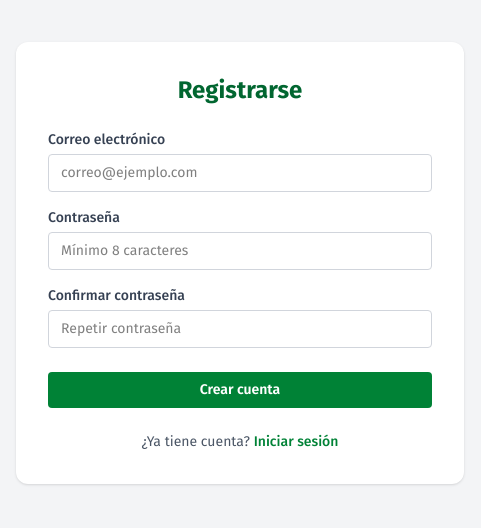
RegisterPage › displays error for duplicate email (409)
Type "existing@test.com" into the field labelled "Correo electrónico" at (240, 173), box top-left (48, 154), bottom-right (432, 192)
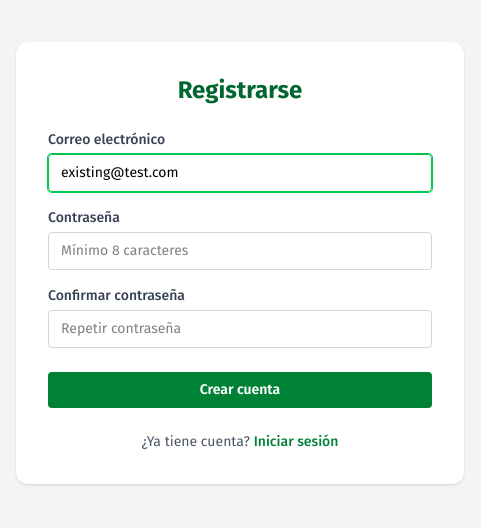
Type "secret123" into the password field labelled "Contraseña" at (240, 251), box top-left (48, 232), bottom-right (432, 270)
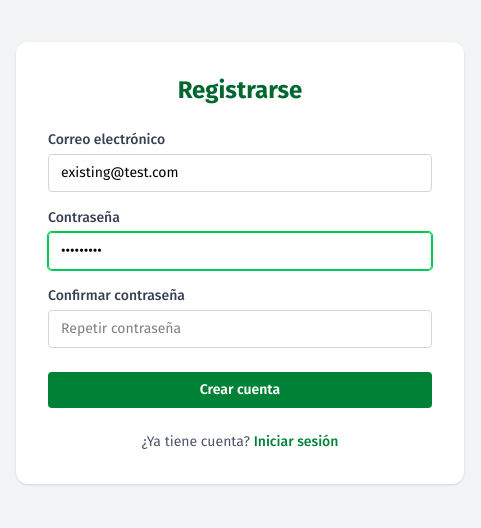
Type "secret123" into the password field labelled "Confirmar contraseña" at (240, 329), box top-left (48, 310), bottom-right (432, 348)
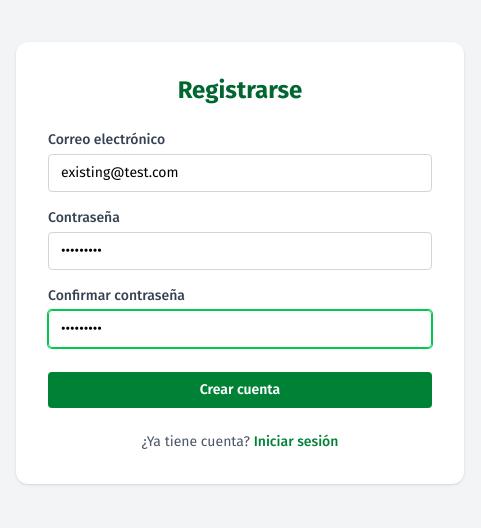
Click the button "Crear cuenta" at (240, 390), box top-left (48, 372), bottom-right (432, 408)
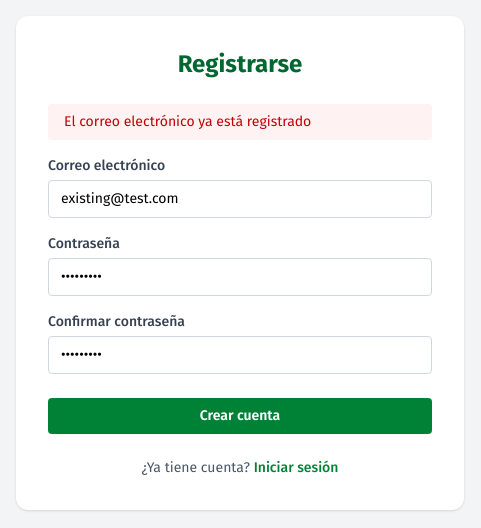
Check: the text "El correo electrónico ya está registrado" is shown, box top-left (48, 104), bottom-right (432, 140)
